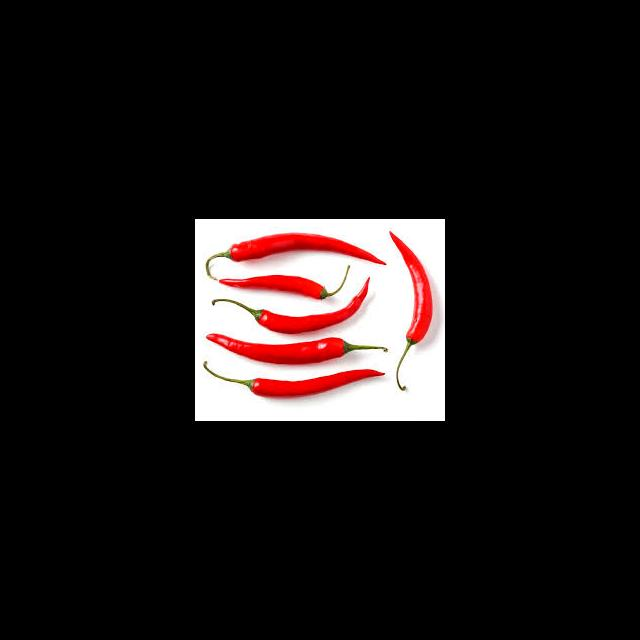chili_pepper: (230, 277, 369, 333), (203, 364, 389, 400), (203, 331, 390, 365), (224, 232, 388, 264), (387, 230, 433, 342)
